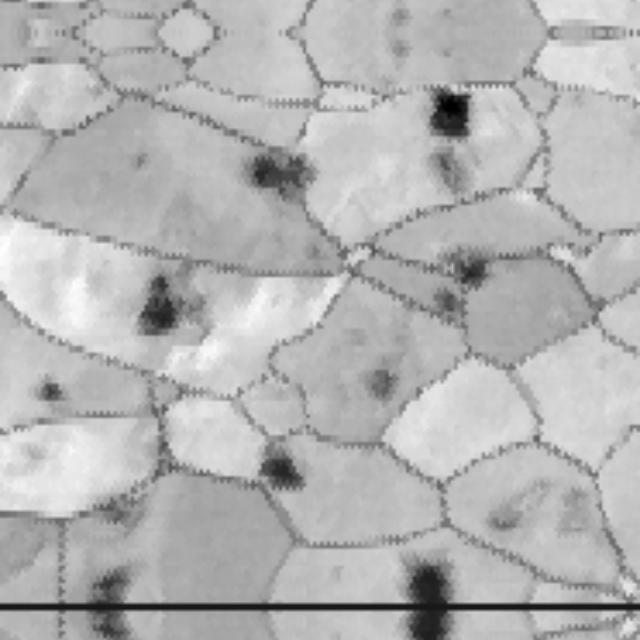good_void: (489, 477, 587, 541), (140, 262, 208, 337), (251, 153, 314, 202), (424, 150, 482, 198), (431, 92, 475, 139), (398, 568, 448, 605), (367, 357, 401, 405), (438, 255, 487, 287), (259, 456, 302, 490), (398, 611, 448, 640), (84, 579, 134, 604), (84, 612, 134, 637), (123, 153, 153, 177), (304, 246, 328, 267), (387, 41, 412, 61), (387, 6, 412, 26), (435, 296, 461, 315), (36, 385, 61, 403)
